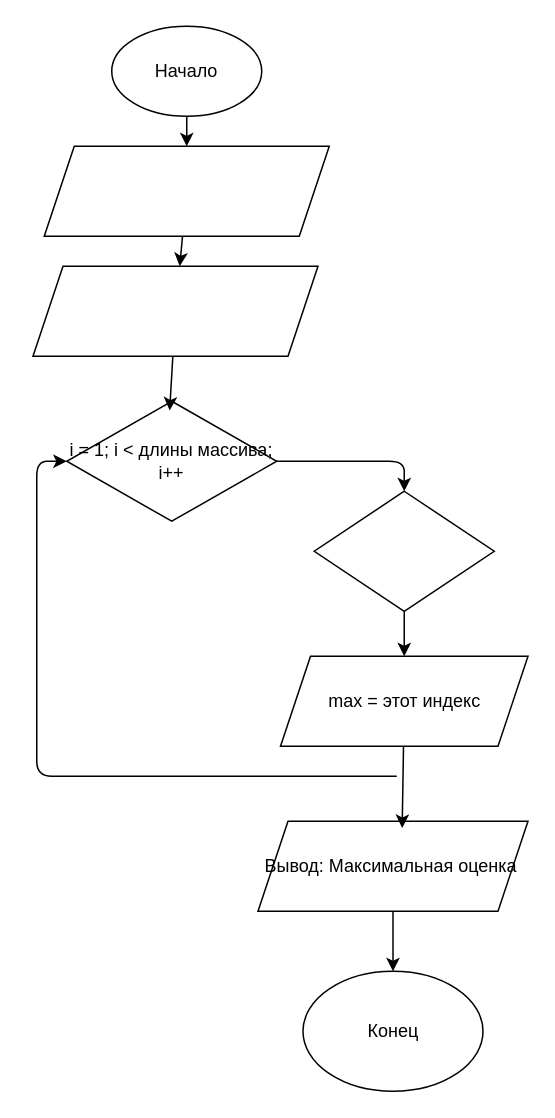
Image size: 555x1118. Some labels were removed from this diagram. Each missing label, with the box of its shape:
max = первый идекс запомнимает: (32, 265, 318, 356)
индекс > max: (313, 490, 494, 611)
Массив = {5, 4, 5, 3, 4}: (43, 145, 329, 236)
